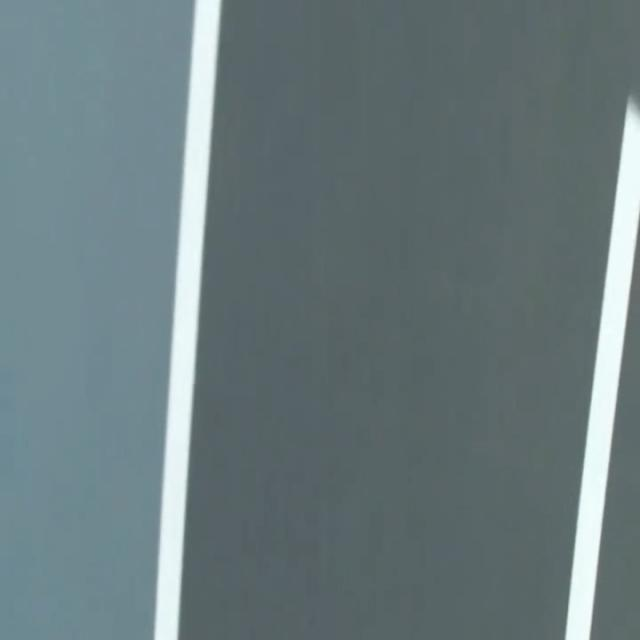center: (564, 98, 639, 639)
left: (154, 0, 220, 639)
